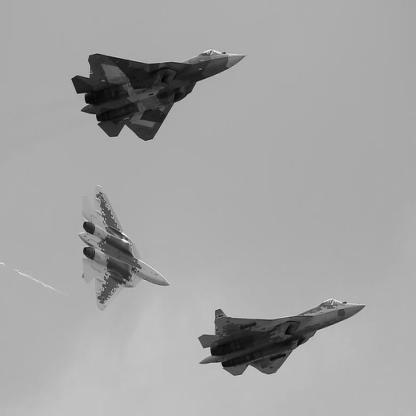Su57: (72, 49, 248, 143), (198, 299, 367, 378), (78, 185, 171, 313)
